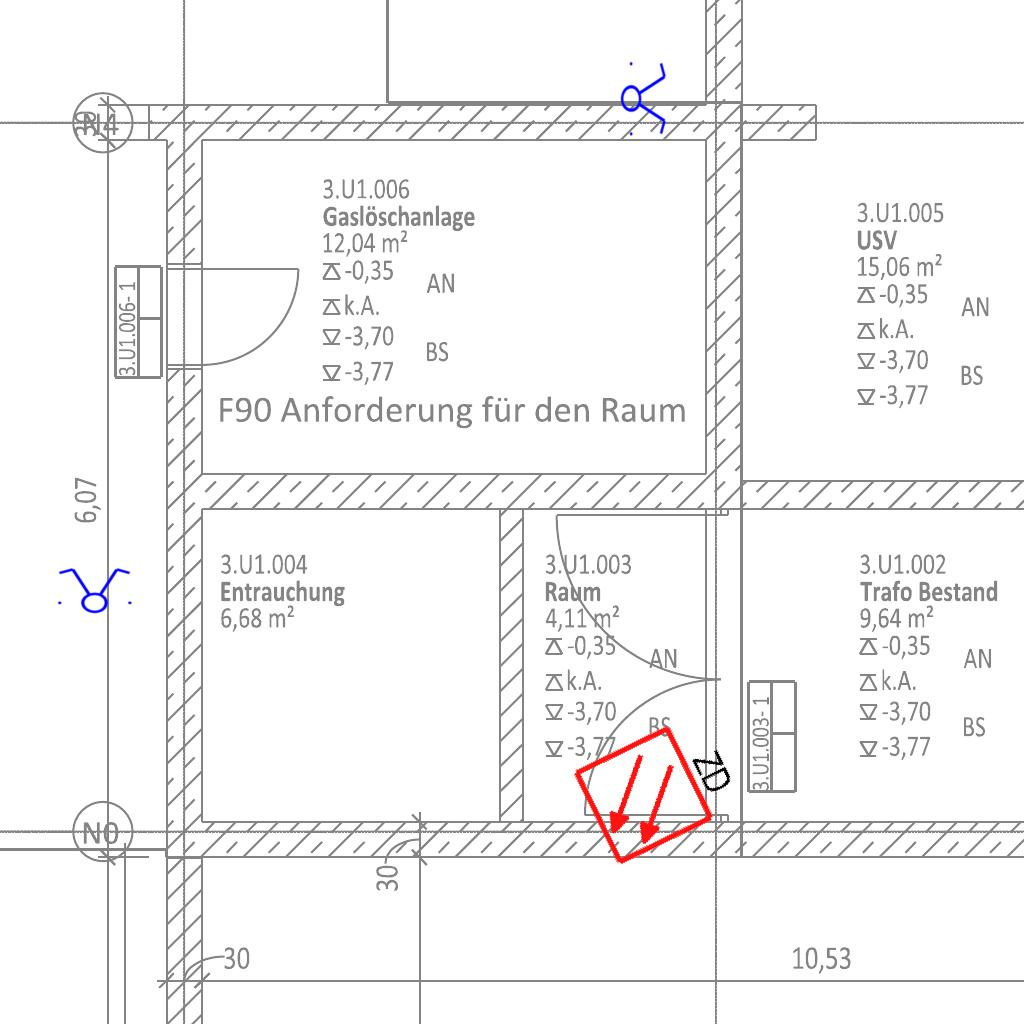Serienschalter: (620, 56, 668, 140), (52, 566, 136, 614)
ZD_Melder_in_Zwischendecke_mit_Revisionsoeffnung_mind_40_x_40_cm: (568, 701, 752, 870)
